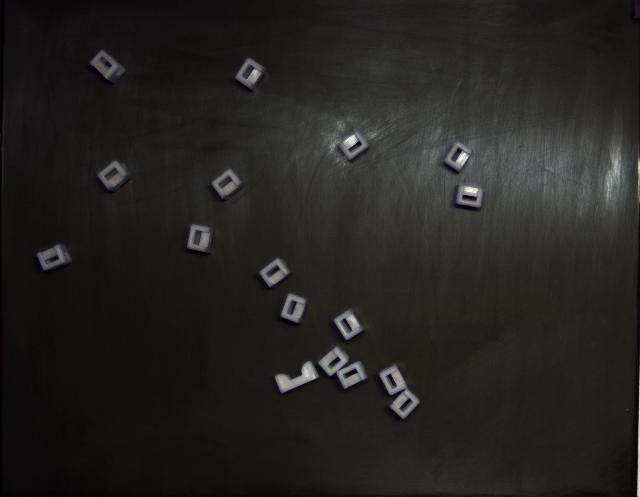fourth_side: (90, 50, 125, 84), (98, 160, 134, 191), (211, 169, 245, 200), (235, 58, 266, 91), (36, 244, 71, 271), (334, 309, 364, 340), (318, 346, 349, 376), (259, 259, 291, 288), (379, 364, 408, 396), (336, 361, 368, 390), (390, 389, 420, 419), (339, 131, 369, 160), (445, 141, 472, 172), (281, 294, 308, 324), (188, 225, 215, 254), (456, 185, 484, 208)
third_side: (275, 361, 319, 394)
